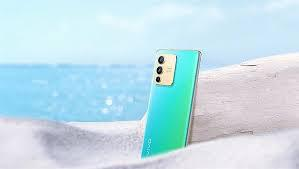Smartphone: (141, 47, 201, 161)
